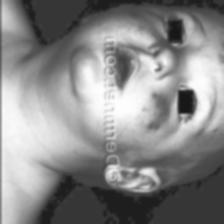Non-Cancerous Skin Condition: (145, 90, 168, 136), (132, 26, 146, 32)
